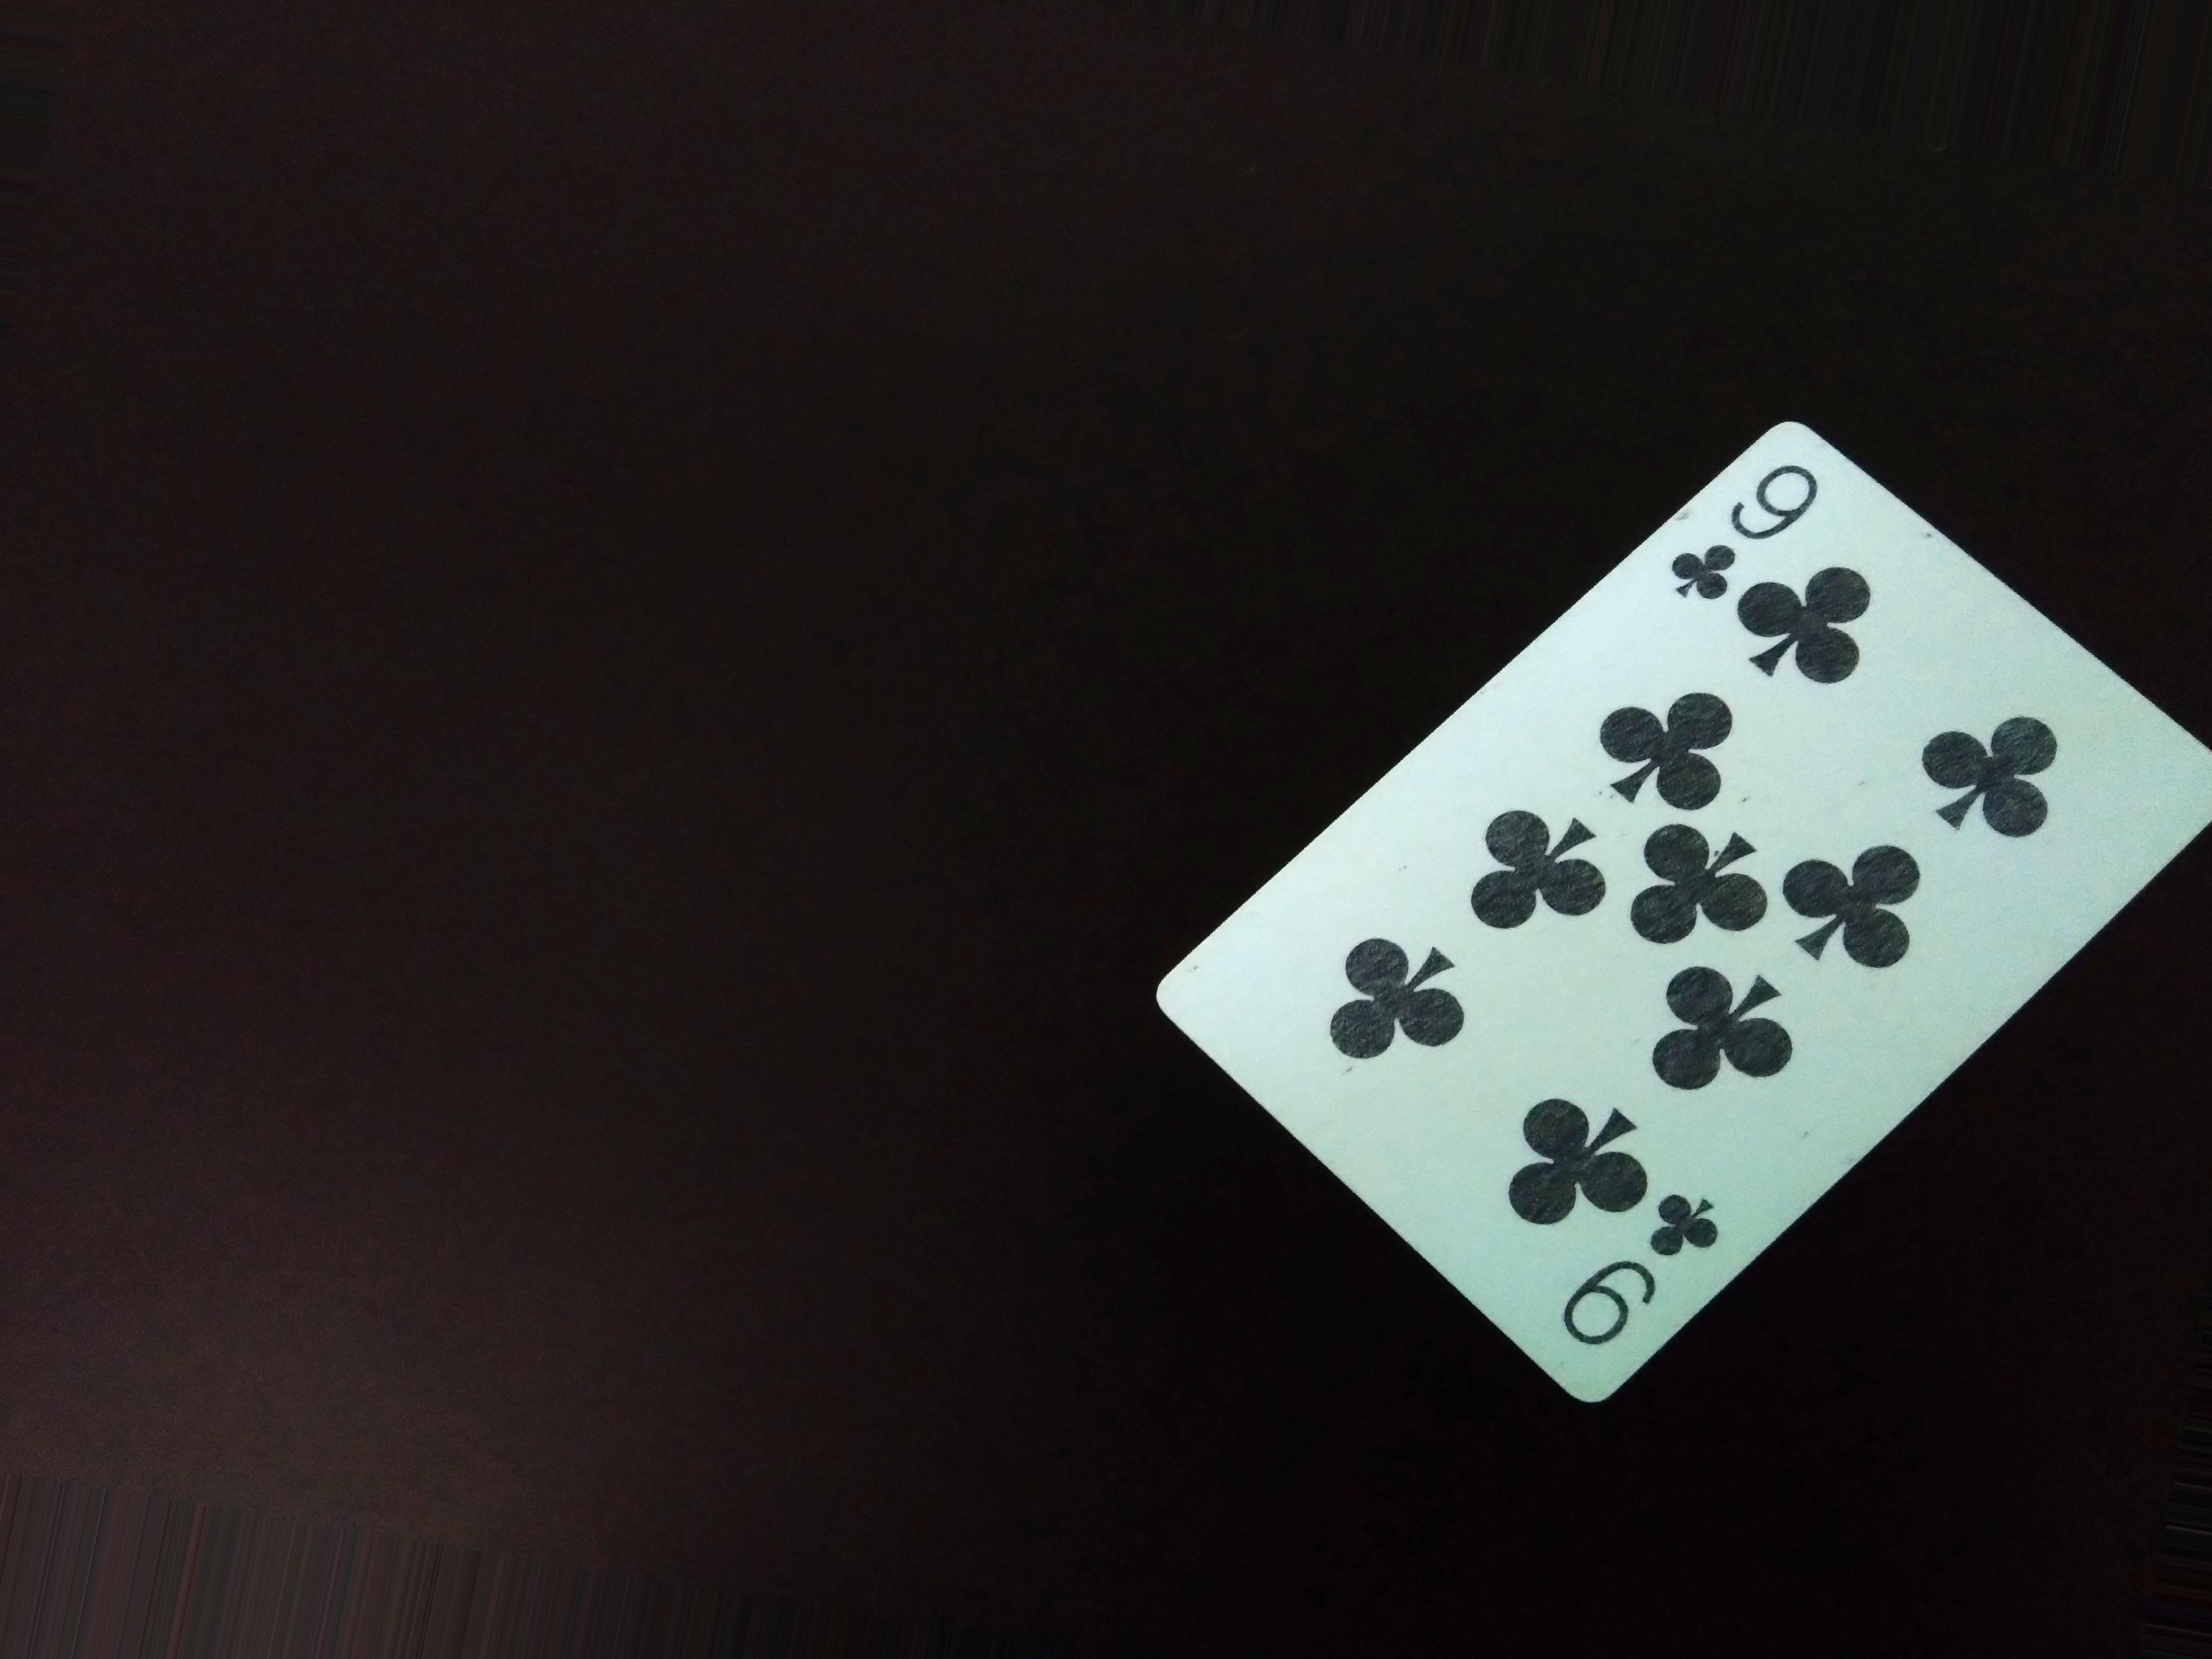9C: (1663, 451, 1824, 619)
